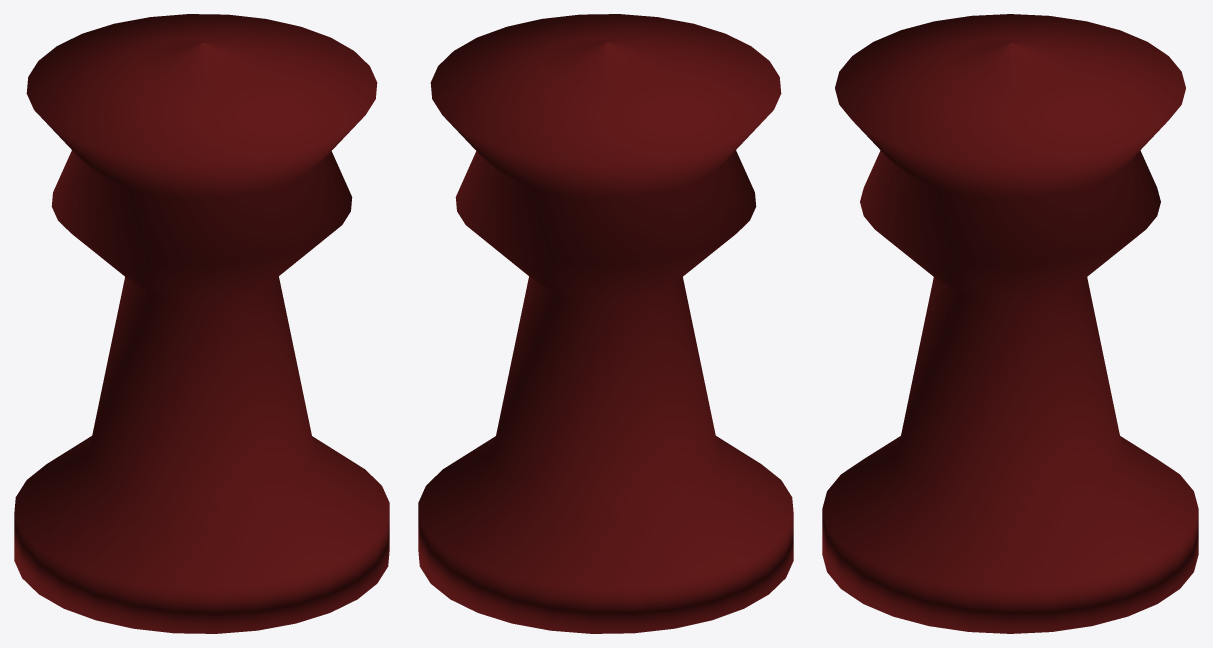
File: b-queen.glb
3 views of the same model, side by side, from view 1: azimuth 30°, elevation 25°; view 2: azimuth 150°, elevation 25°; view 3: azimuth 270°, elevation 25° (orthographic).
Visible parts, largest first — view 1: b-queen; view 2: b-queen; view 3: b-queen.
Boxes of the visible parts, bbox=[...] form: b-queen: bbox=[14, 14, 389, 633]; b-queen: bbox=[418, 14, 793, 633]; b-queen: bbox=[822, 14, 1198, 633].
Bounding box in the file's own units: 0.6 × 0.9 × 0.6.
